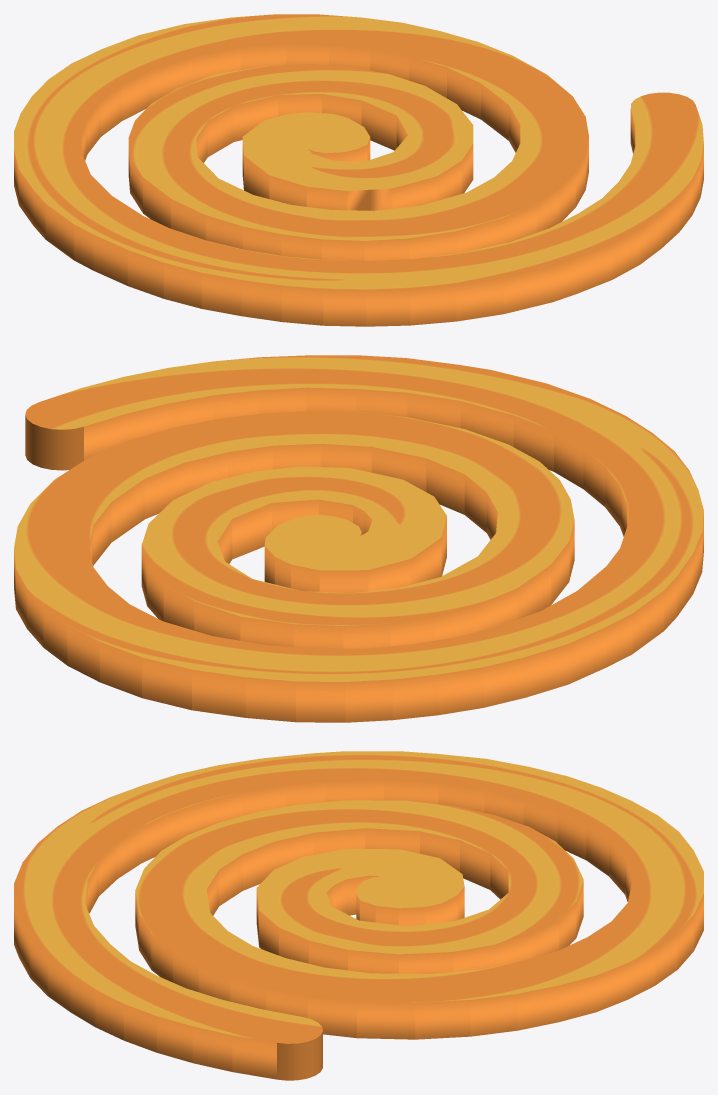
The model's file is Mustard_Slice.glb.
3 renders of one model, top to bottom at view 1: azimuth 30°, elevation 25°; view 2: azimuth 150°, elevation 25°; view 3: azimuth 270°, elevation 25°, orthographic. The views are drawn at different scales.
Visible parts, largest first — view 1: Mustard_Slice; view 2: Mustard_Slice; view 3: Mustard_Slice.
Boxes of the visible parts, left/top/right/bottom form: Mustard_Slice: left=14, top=14, right=703, bottom=326; Mustard_Slice: left=14, top=355, right=703, bottom=722; Mustard_Slice: left=14, top=751, right=703, bottom=1080.
Size of the model in its own units: 17.06 by 1 by 17.
1 material, 1 textured.
